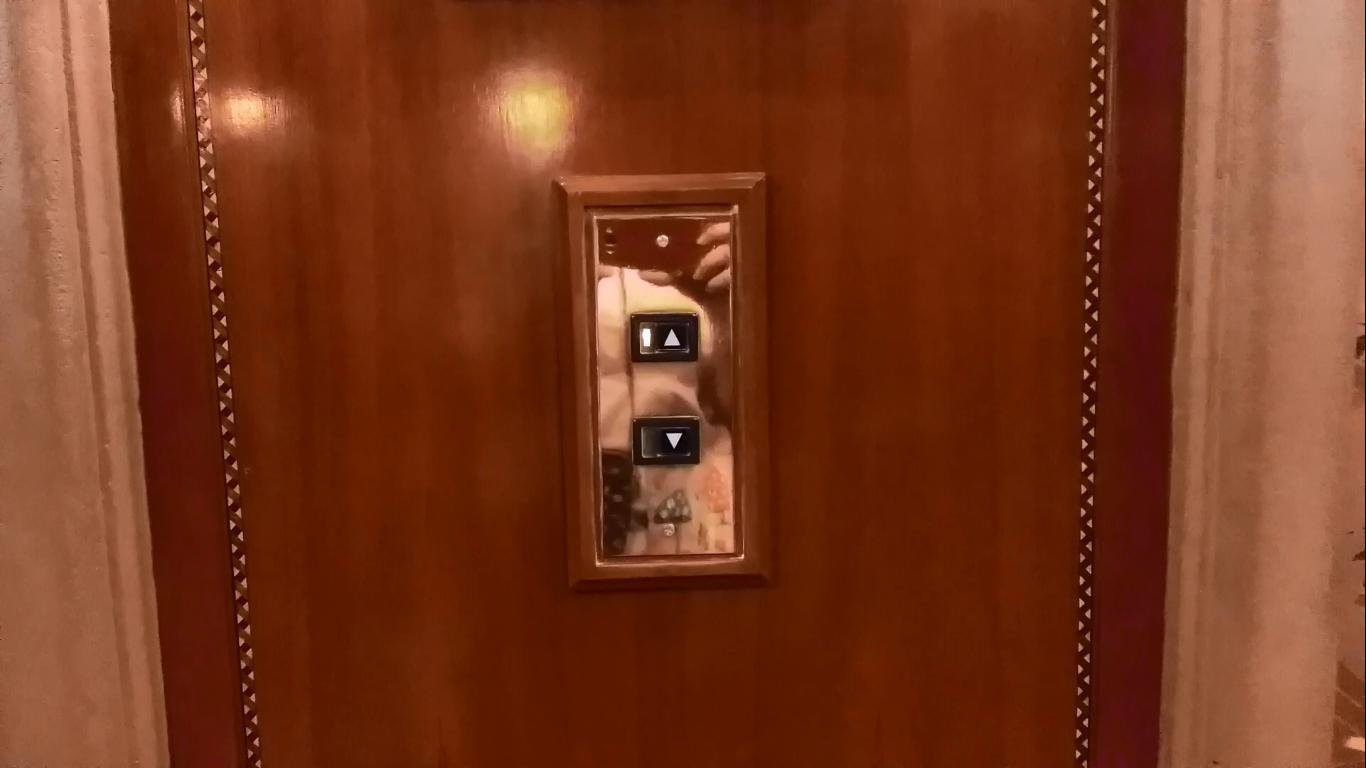down: (631, 416, 699, 463)
up: (631, 314, 695, 357)
